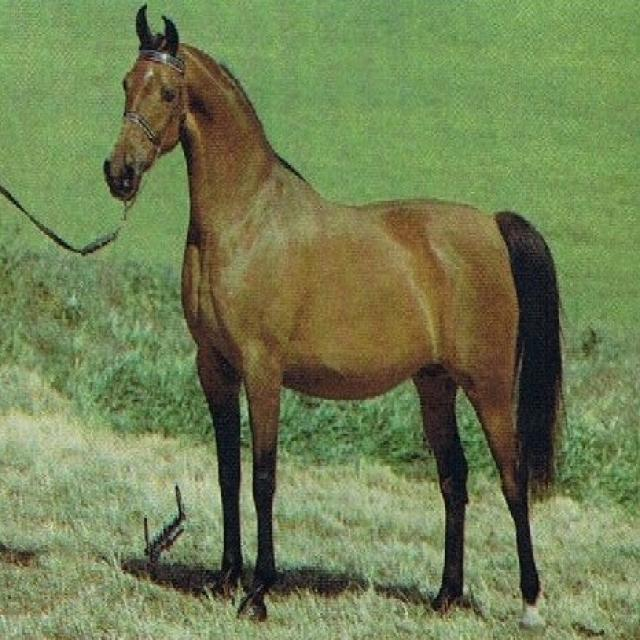horse: (104, 2, 563, 622)
